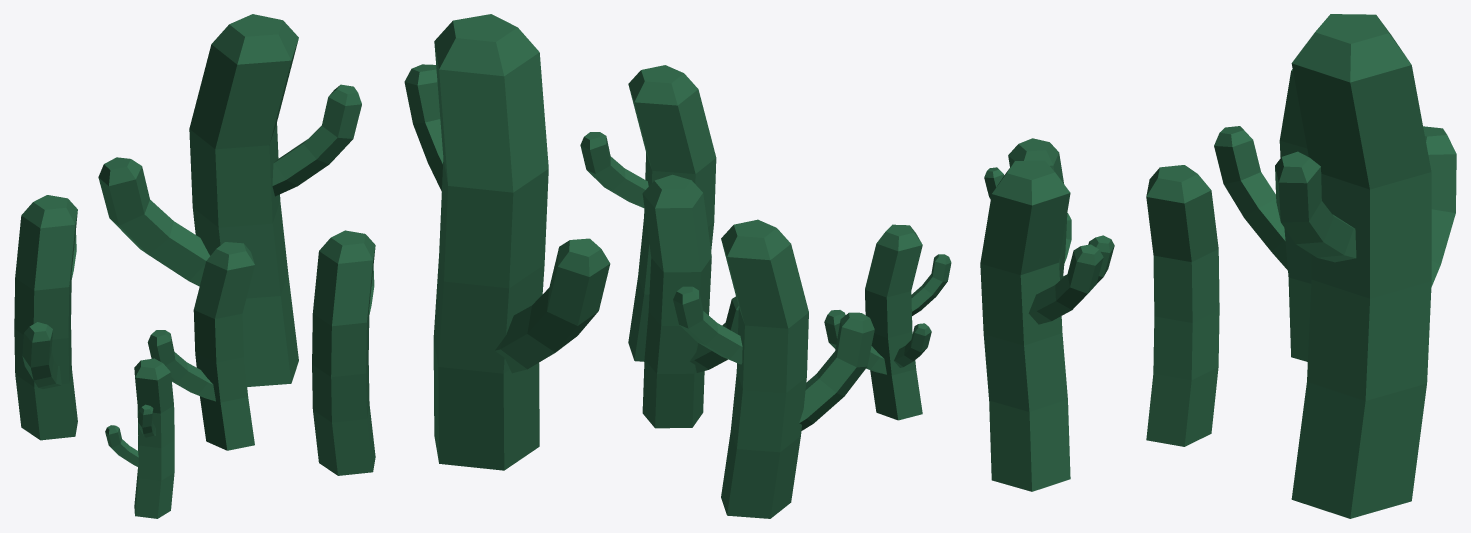
Rendered from Cactus.fbx.
3 views of the same model, side by side, from view 1: azimuth 30°, elevation 25°; view 2: azimuth 150°, elevation 25°; view 3: azimuth 270°, elevation 25° (orthographic). The views are drawn at different scales.
Parts seen in each view (by area): view 1: Cylinder.006; view 2: Cylinder.006; view 3: Cylinder.006.
Boxes of the visible parts, x1,y1,x2,y2 form: Cylinder.006: (14, 14, 375, 518); Cylinder.006: (404, 14, 951, 518); Cylinder.006: (980, 14, 1456, 518).
Size of the model in its own units: 68.05 by 63.16 by 58.68.
